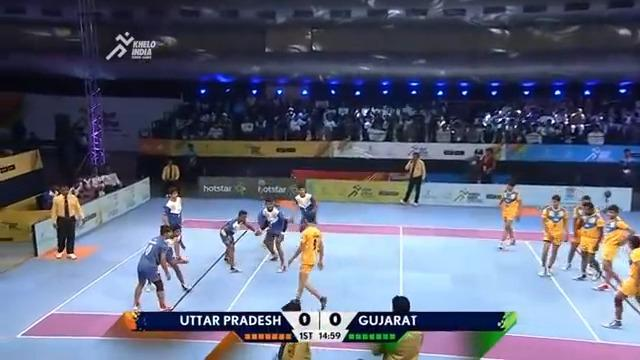Player: (168, 229, 250, 311), (130, 223, 176, 312), (536, 192, 570, 278), (217, 207, 260, 274), (601, 205, 627, 286), (292, 177, 321, 228), (499, 174, 517, 248), (581, 202, 598, 273)
Raider: (284, 212, 330, 311)
referee: (370, 294, 423, 359), (49, 183, 84, 259), (399, 151, 426, 206)
